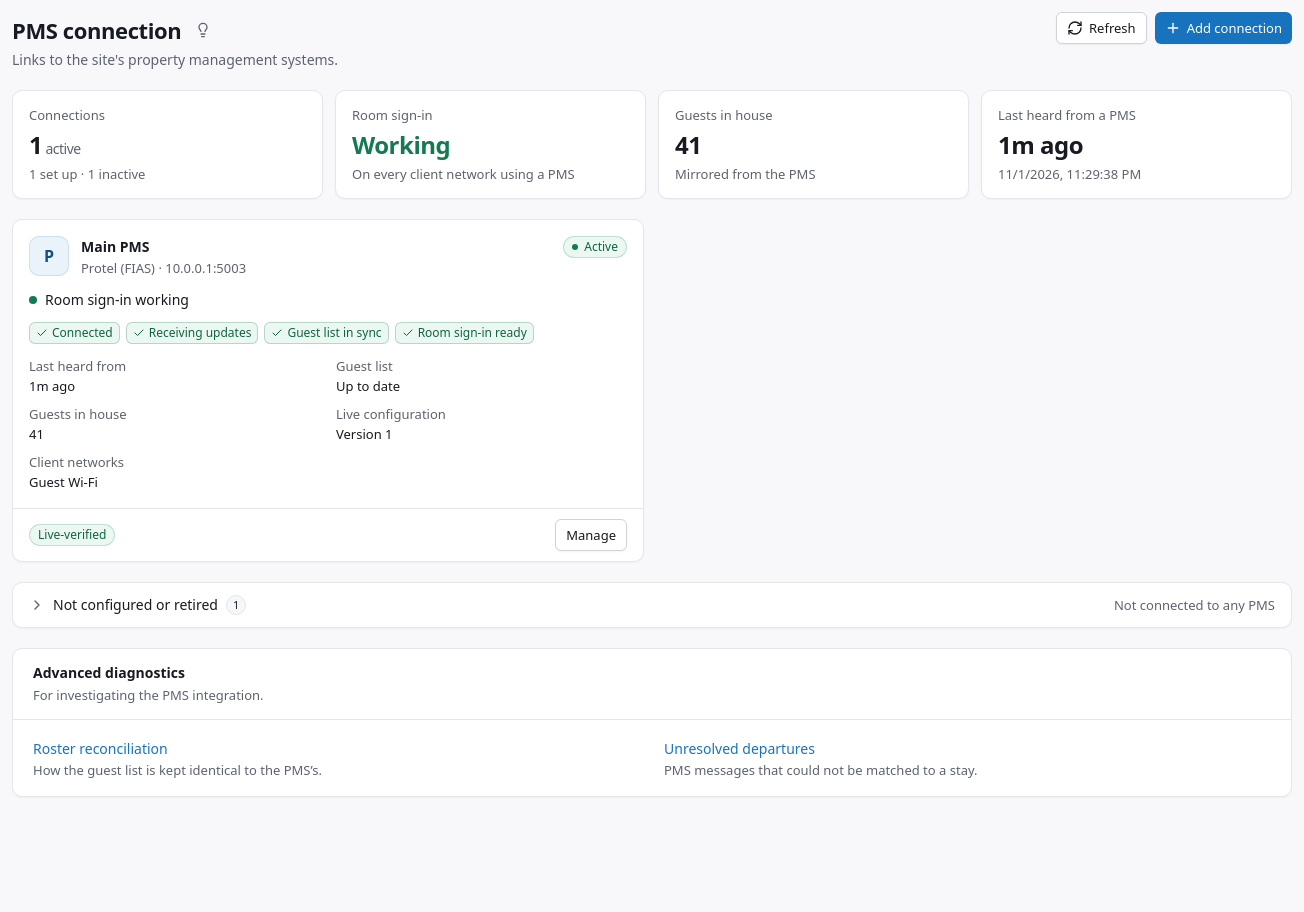
it: the overview › keeps never-configured connections apart from the live ones
The width and height of the screenshot is (1304, 912).
Check: the heading "Main PMS" is shown, box [81,237,150,257]
Check: the text "Test link" is not shown
Click the button "Not configured or retired 1 Not connected to any PMS".
click(135, 604)  # box [13,583,1291,627]
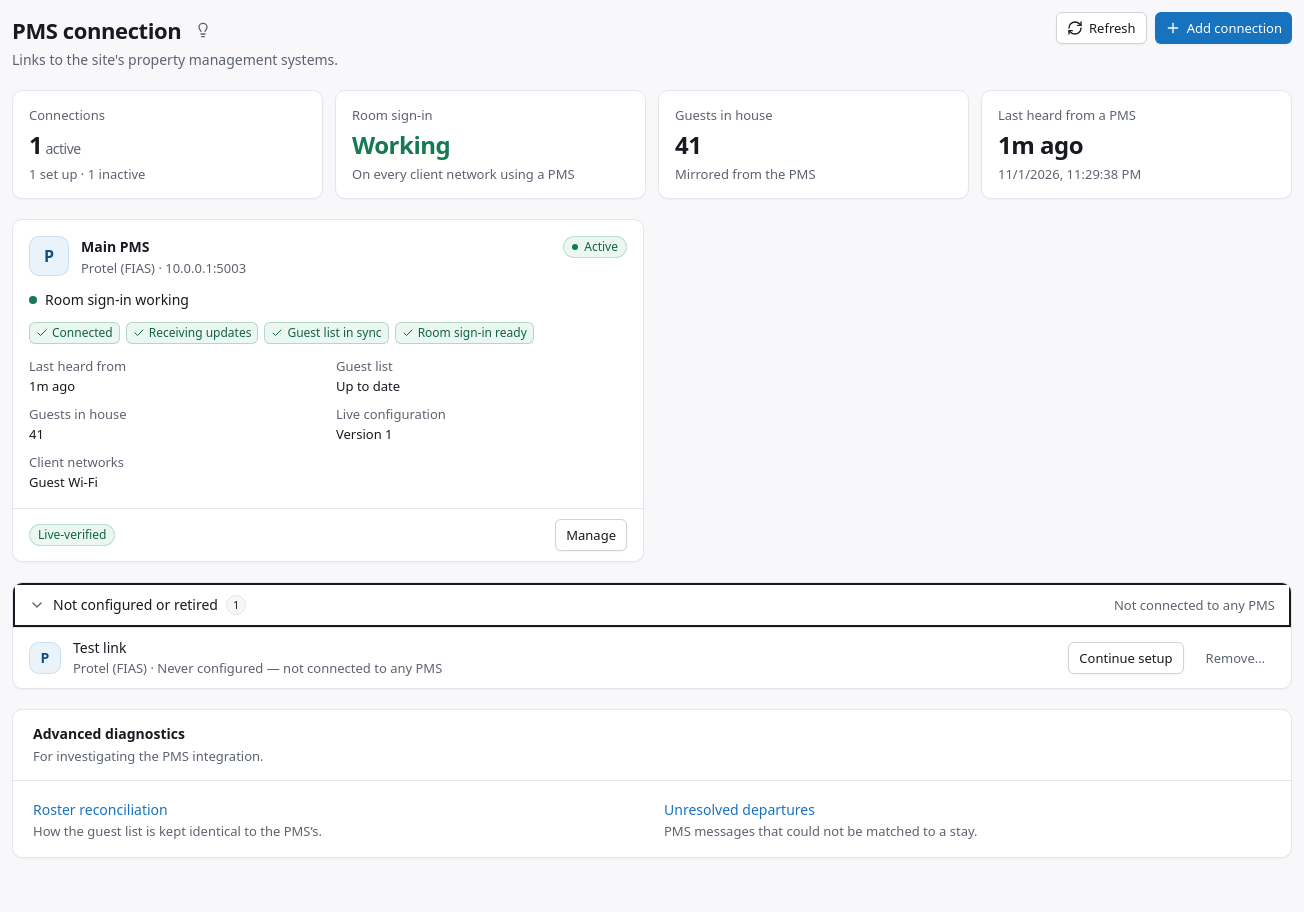
Check: the text "Test link" is shown, box [73,638,126,657]
Check: the text "Protel (FIAS) · Never configured — not connected to any PMS" is shown, box [73,659,442,677]
